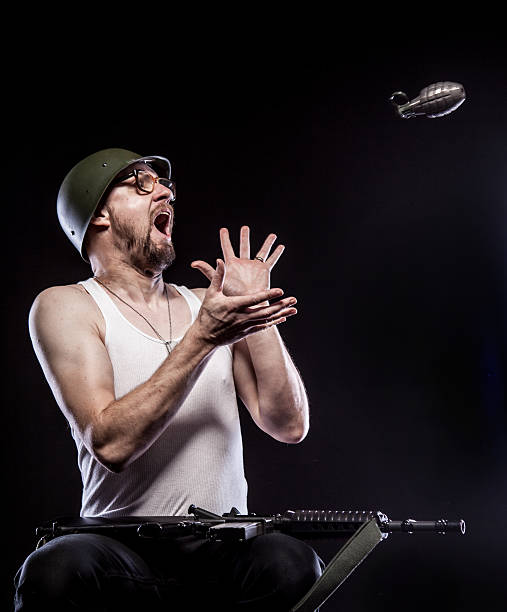e1: (383, 78, 469, 122)
